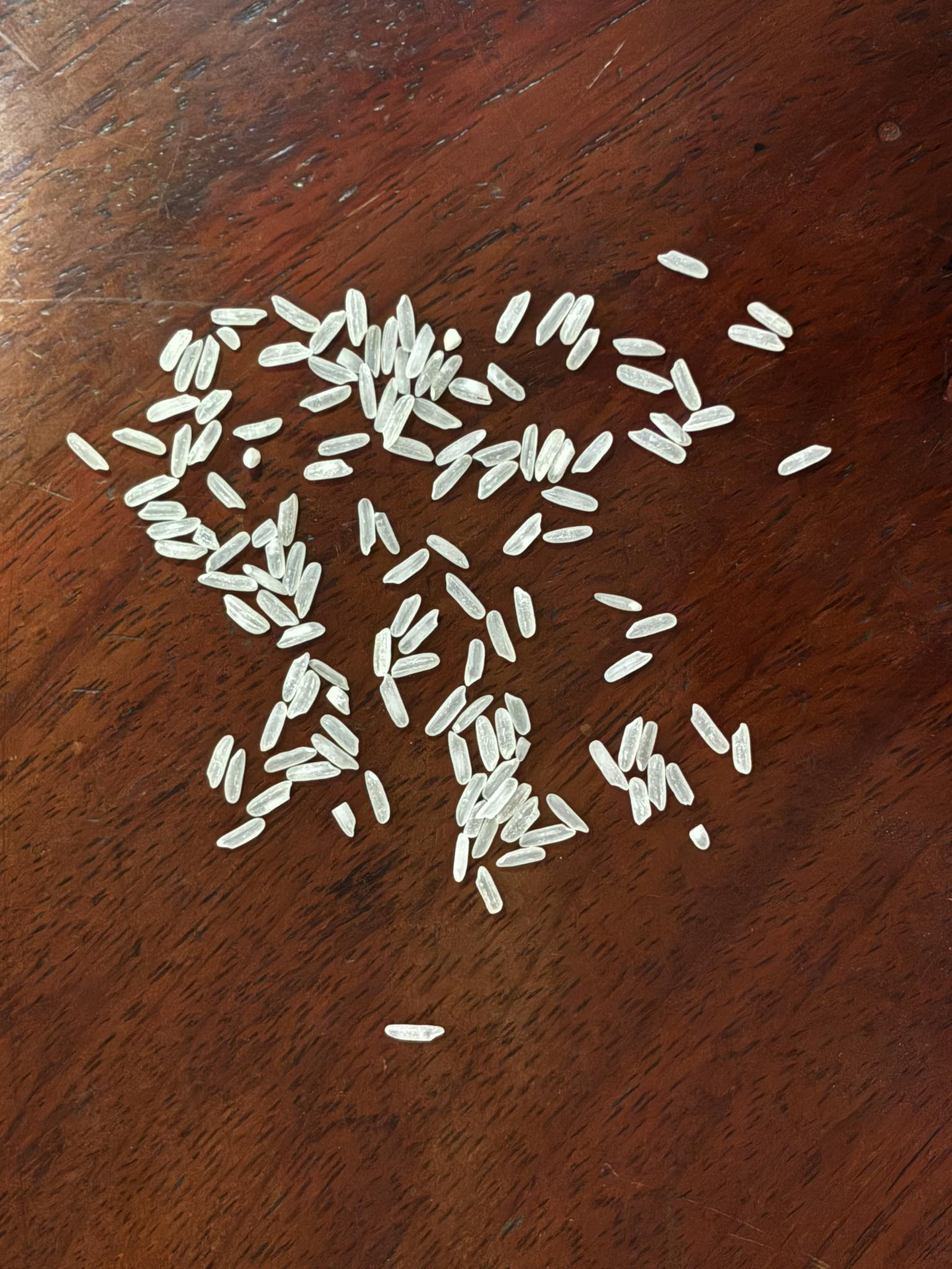Rice-th-y-nh: (532, 292, 577, 346), (423, 685, 468, 737), (629, 427, 688, 465), (688, 703, 730, 755), (430, 454, 474, 501), (494, 291, 532, 345), (667, 358, 705, 412), (435, 428, 487, 466), (221, 594, 270, 634), (270, 296, 321, 334), (398, 608, 439, 655), (445, 573, 486, 620), (544, 793, 591, 834), (588, 740, 627, 788), (558, 294, 594, 346), (777, 442, 832, 476), (311, 733, 360, 771), (205, 531, 250, 572), (616, 362, 671, 395), (572, 431, 614, 474), (502, 512, 543, 556), (499, 799, 540, 843), (308, 308, 347, 354), (411, 396, 462, 431), (124, 474, 178, 507), (382, 395, 415, 449), (533, 427, 566, 481), (726, 323, 785, 353), (172, 337, 204, 392), (65, 432, 110, 471), (246, 780, 293, 817), (747, 301, 794, 338), (477, 458, 518, 500), (491, 782, 532, 824), (453, 773, 486, 825), (383, 548, 430, 584), (452, 694, 494, 734), (429, 353, 464, 401), (404, 324, 435, 378), (256, 590, 300, 628), (541, 484, 598, 513), (198, 567, 257, 595), (482, 757, 519, 801), (565, 327, 602, 371), (412, 350, 445, 399), (378, 675, 409, 727), (485, 611, 516, 663), (486, 362, 526, 402), (205, 471, 246, 510), (479, 778, 518, 819), (287, 672, 321, 719), (321, 714, 359, 756), (372, 377, 400, 434), (293, 563, 322, 618), (682, 402, 735, 432), (158, 327, 193, 372), (112, 426, 166, 455), (146, 393, 198, 423), (280, 652, 311, 702), (205, 735, 234, 788), (604, 650, 652, 682), (658, 249, 709, 279), (217, 818, 266, 849), (242, 563, 288, 596), (516, 423, 542, 481), (188, 421, 223, 464), (427, 534, 470, 569), (307, 356, 357, 386), (363, 771, 391, 824), (259, 701, 288, 752), (650, 411, 691, 447), (300, 385, 353, 412), (258, 340, 311, 367), (147, 516, 201, 542), (195, 336, 221, 390), (518, 823, 574, 848), (446, 731, 472, 784), (618, 717, 644, 770), (264, 746, 315, 773), (390, 594, 422, 637), (194, 389, 232, 425), (309, 658, 350, 691), (625, 613, 677, 639), (475, 717, 500, 771), (317, 432, 370, 457), (223, 749, 247, 804), (355, 498, 379, 553), (345, 289, 369, 344), (475, 866, 503, 913), (356, 362, 379, 419), (384, 437, 434, 463), (281, 542, 306, 594), (277, 621, 325, 648), (665, 762, 694, 806), (474, 440, 521, 467), (276, 494, 300, 546), (395, 295, 418, 349), (548, 439, 575, 484), (646, 754, 668, 809), (513, 586, 536, 638), (612, 336, 666, 358), (234, 417, 283, 441), (379, 318, 400, 374), (390, 652, 439, 676), (494, 709, 518, 758), (154, 538, 205, 561), (730, 723, 753, 774), (635, 721, 659, 768), (170, 425, 192, 476), (210, 307, 266, 327), (374, 512, 400, 555), (504, 694, 531, 735), (628, 778, 652, 824), (463, 639, 486, 686), (472, 818, 499, 858), (287, 761, 338, 782), (451, 376, 492, 402), (594, 591, 642, 613), (304, 459, 352, 481), (138, 500, 187, 521), (391, 347, 412, 394), (496, 847, 545, 867), (385, 1024, 444, 1040), (543, 525, 592, 544), (364, 325, 382, 376), (372, 629, 391, 677), (263, 539, 285, 578), (250, 518, 277, 549), (331, 802, 355, 836), (452, 834, 469, 882), (336, 347, 364, 374), (193, 525, 221, 551), (326, 685, 350, 715), (216, 326, 241, 351), (688, 824, 711, 850), (442, 327, 463, 351), (514, 737, 531, 762)
